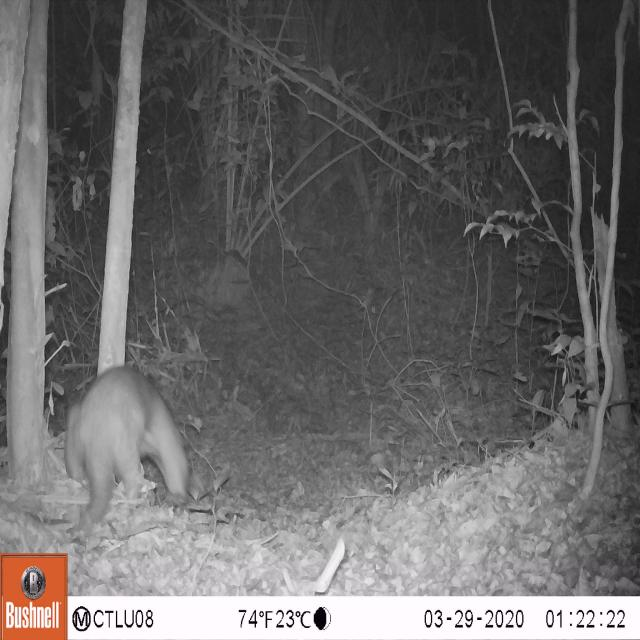Southern Tamandua: (58, 354, 200, 540)
